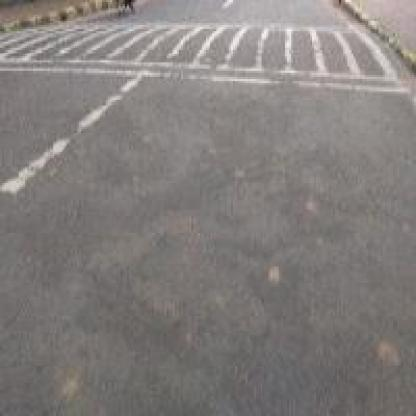Speed Bump: (0, 16, 410, 96)
